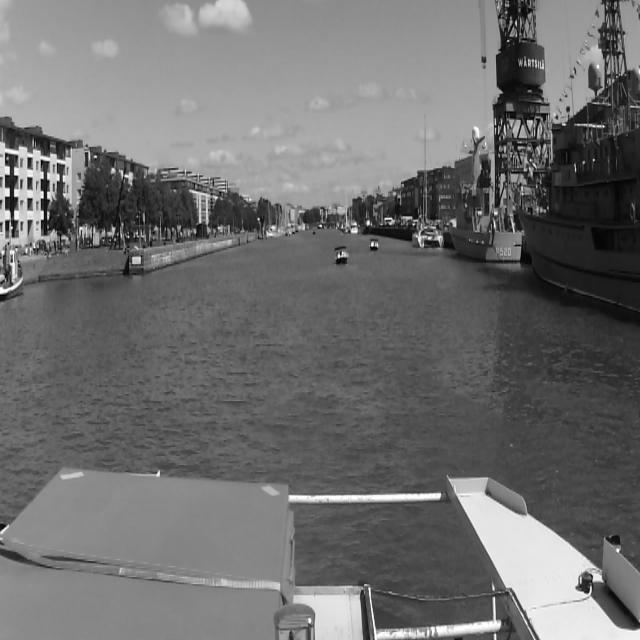ship: (520, 68, 638, 312), (446, 126, 522, 270), (412, 114, 443, 248), (334, 245, 348, 264), (369, 238, 379, 252), (351, 221, 357, 233)
